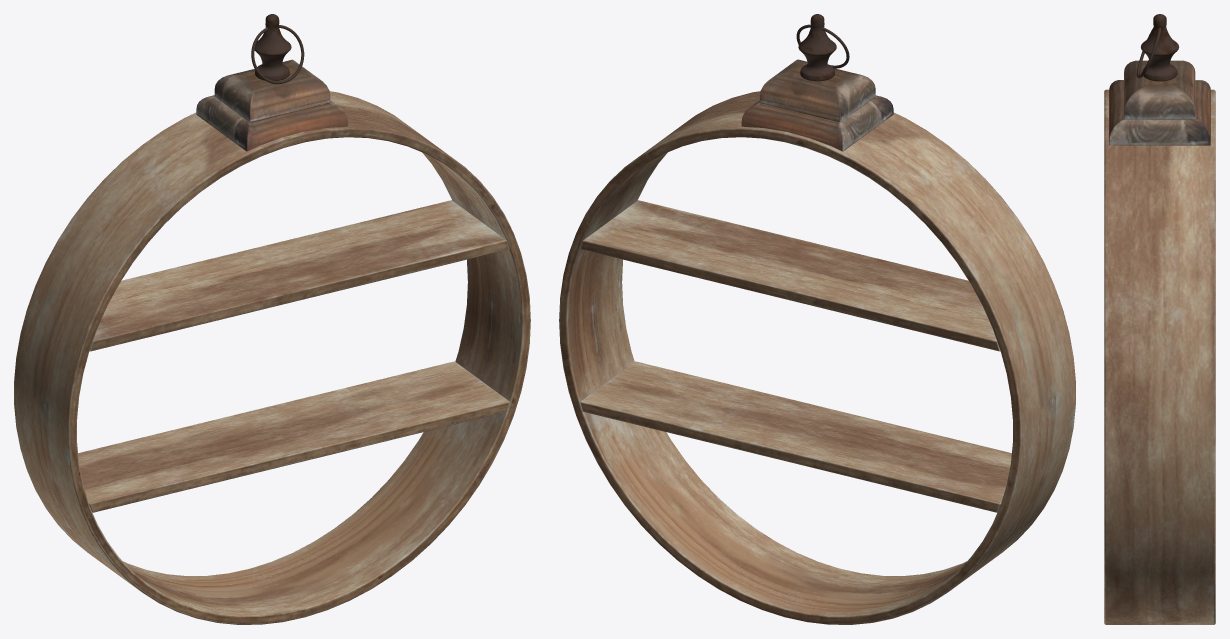
Rendered from bookshelf_B07HSJYKXY.glb.
The picture shows the model from 3 angles, left to right: view 1: azimuth 30°, elevation 25°; view 2: azimuth 150°, elevation 25°; view 3: azimuth 270°, elevation 25°; orthographic projection.
Visible parts, largest first — view 1: RootNode; view 2: RootNode; view 3: RootNode.
Boxes of the visible parts, left/top/right/bottom form: RootNode: left=14, top=14, right=530, bottom=624; RootNode: left=559, top=14, right=1075, bottom=624; RootNode: left=1104, top=14, right=1215, bottom=624.
Bounding box in the file's own units: 0.6012 × 0.7253 × 0.1249.
1 material, 1 textured.
